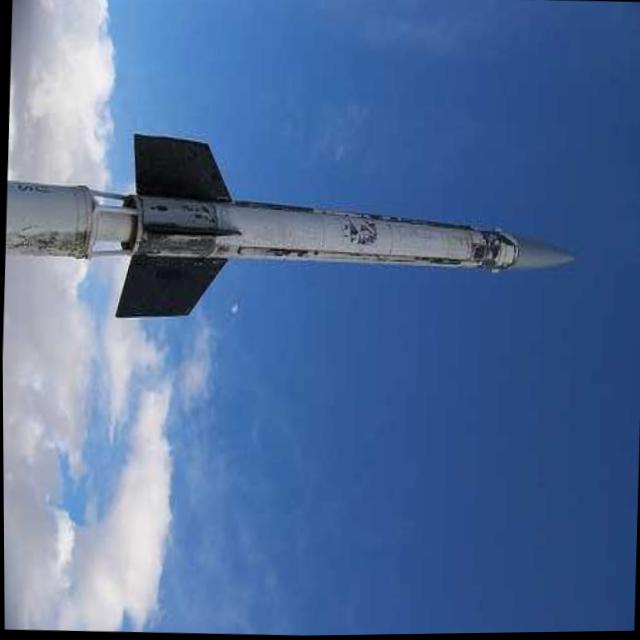missile: (108, 123, 576, 333)
